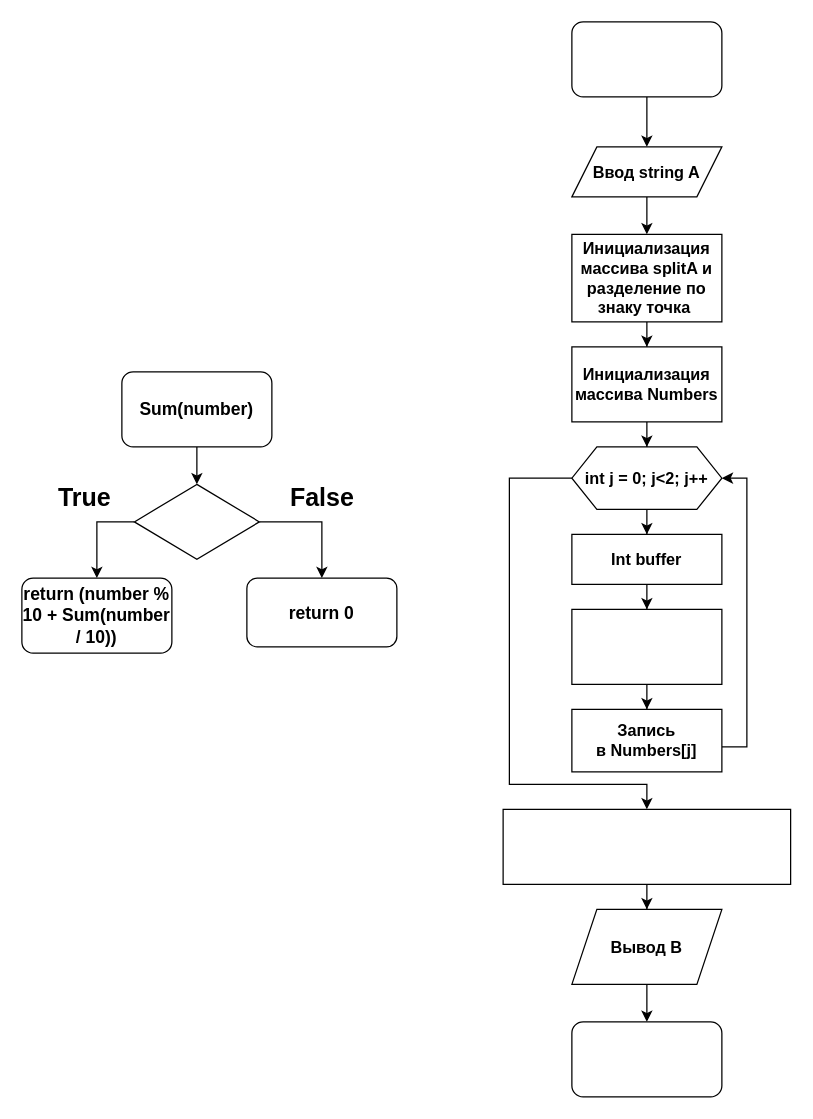
The diagram is 813 pixels wide and 1119 high, and some of its shapes have lost their labels. Here are the shapes that lost their labels. From the top down, the box of each, then its label:
(571, 21, 722, 97): Начало
(133, 483, 259, 559): number == 0
(571, 608, 722, 684): Конвертация строковых значений в числовые
(502, 808, 791, 884): int B = Sum(Numbers[0])+Sum(Numbers[1])
(571, 1021, 722, 1097): Конец
